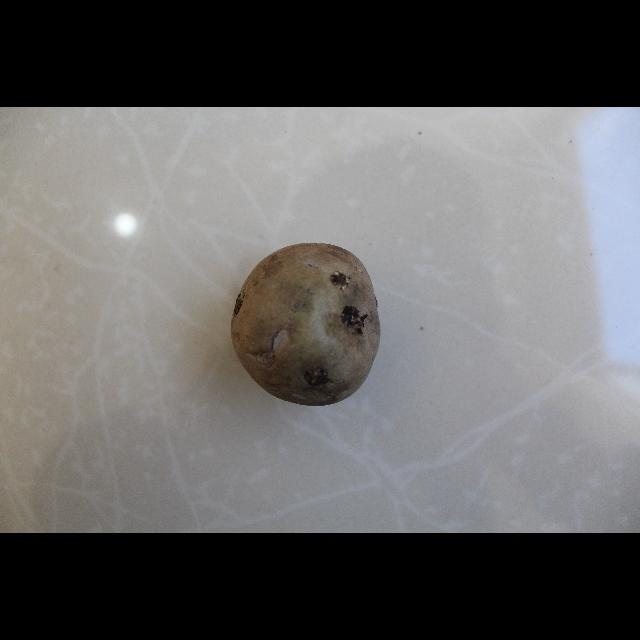Diseased-fungal potato: (256, 230, 412, 400)
